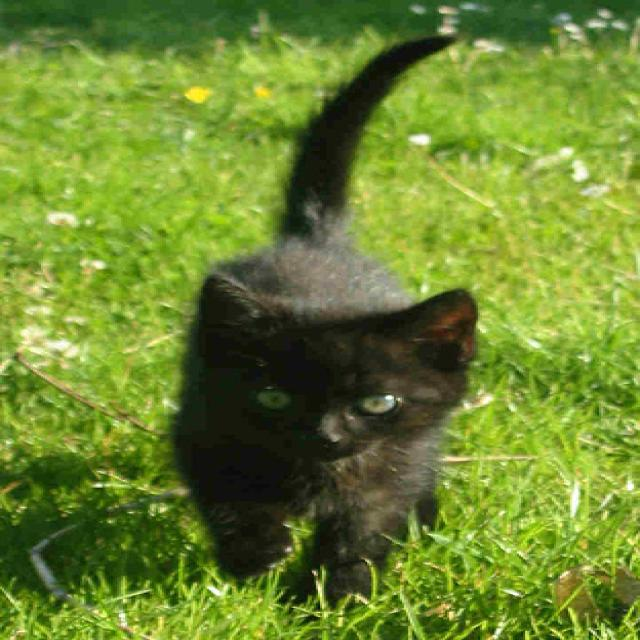cat: (169, 34, 481, 608)
